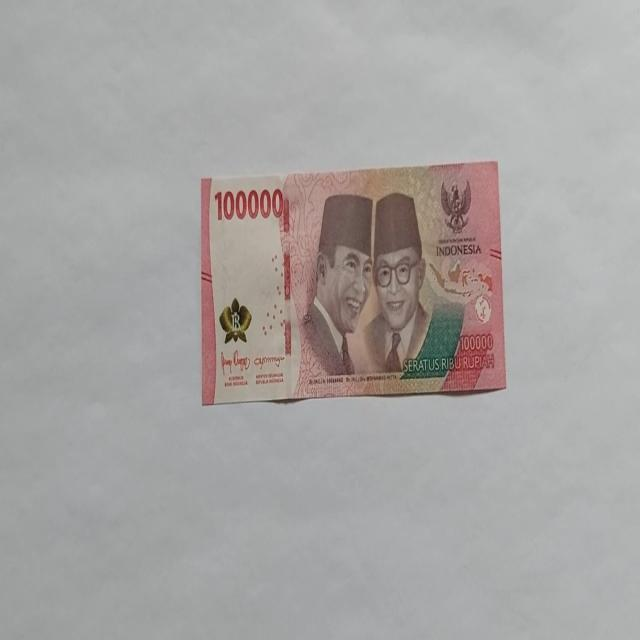seratus ribu rupiah: (199, 161, 506, 405)
